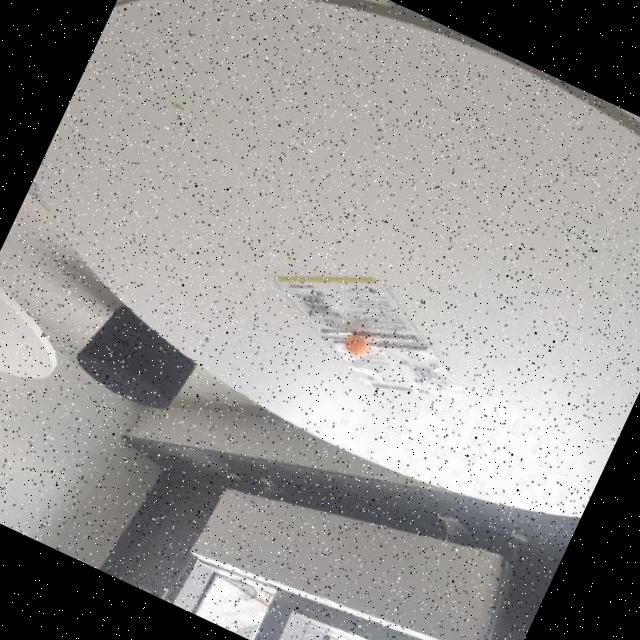ping-pong-ball: (342, 330, 376, 360)
